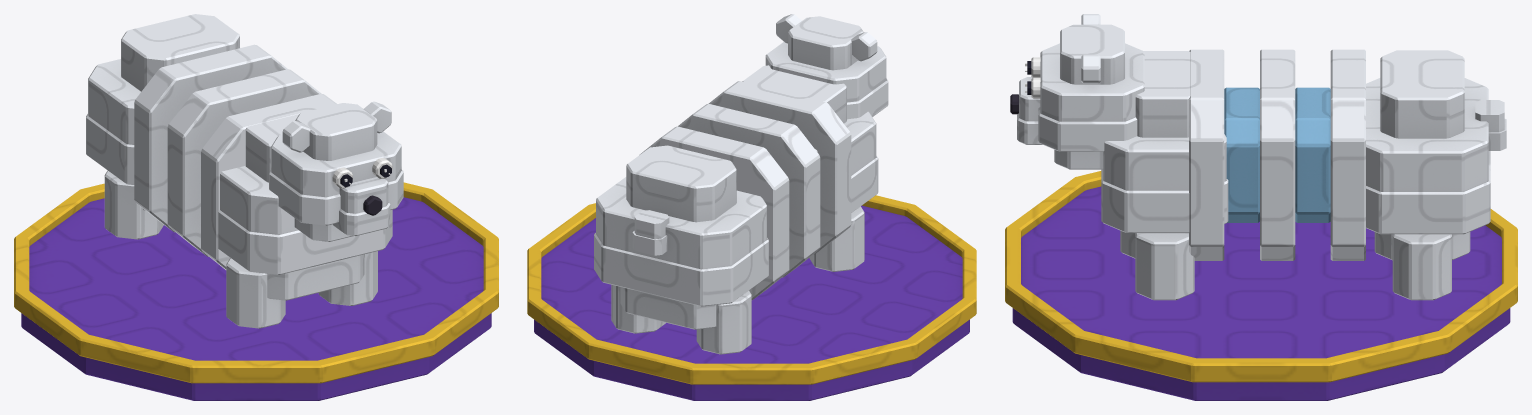
File: AccordionBear.fbx
3 renders of one model, left to right at view 1: azimuth 30°, elevation 25°; view 2: azimuth 150°, elevation 25°; view 3: azimuth 270°, elevation 25°, orthographic. The views are drawn at different scales.
Parts seen in each view (by area): view 1: Art_AccordionBear_Stand, Art_AccordionBear_Folds, Art_AccordionBear_Front, Art_AccordionBear_Head, Art_AccordionBear_Rear; view 2: Art_AccordionBear_Stand, Art_AccordionBear_Rear, Art_AccordionBear_Folds, Art_AccordionBear_Head, Art_AccordionBear_Front; view 3: Art_AccordionBear_Stand, Art_AccordionBear_Folds, Art_AccordionBear_Rear, Art_AccordionBear_Front, Art_AccordionBear_Head.
Part boxes in pixels (box(x1,y1,x2,y2)): Art_AccordionBear_Stand: box(14, 182, 498, 400); Art_AccordionBear_Folds: box(134, 44, 336, 269); Art_AccordionBear_Front: box(218, 114, 392, 328); Art_AccordionBear_Head: box(269, 101, 403, 241); Art_AccordionBear_Rear: box(86, 14, 239, 239); Art_AccordionBear_Stand: box(527, 195, 976, 400); Art_AccordionBear_Rear: box(594, 145, 768, 354); Art_AccordionBear_Folds: box(639, 81, 851, 300); Art_AccordionBear_Head: box(765, 14, 888, 119); Art_AccordionBear_Front: box(742, 65, 878, 271); Art_AccordionBear_Stand: box(1005, 171, 1517, 400); Art_AccordionBear_Folds: box(1189, 49, 1365, 260); Art_AccordionBear_Rear: box(1366, 50, 1506, 300); Art_AccordionBear_Front: box(1101, 51, 1228, 300); Art_AccordionBear_Head: box(1010, 14, 1144, 169).
Size of the model in its own units: 3.19 by 1.79 by 3.19.
